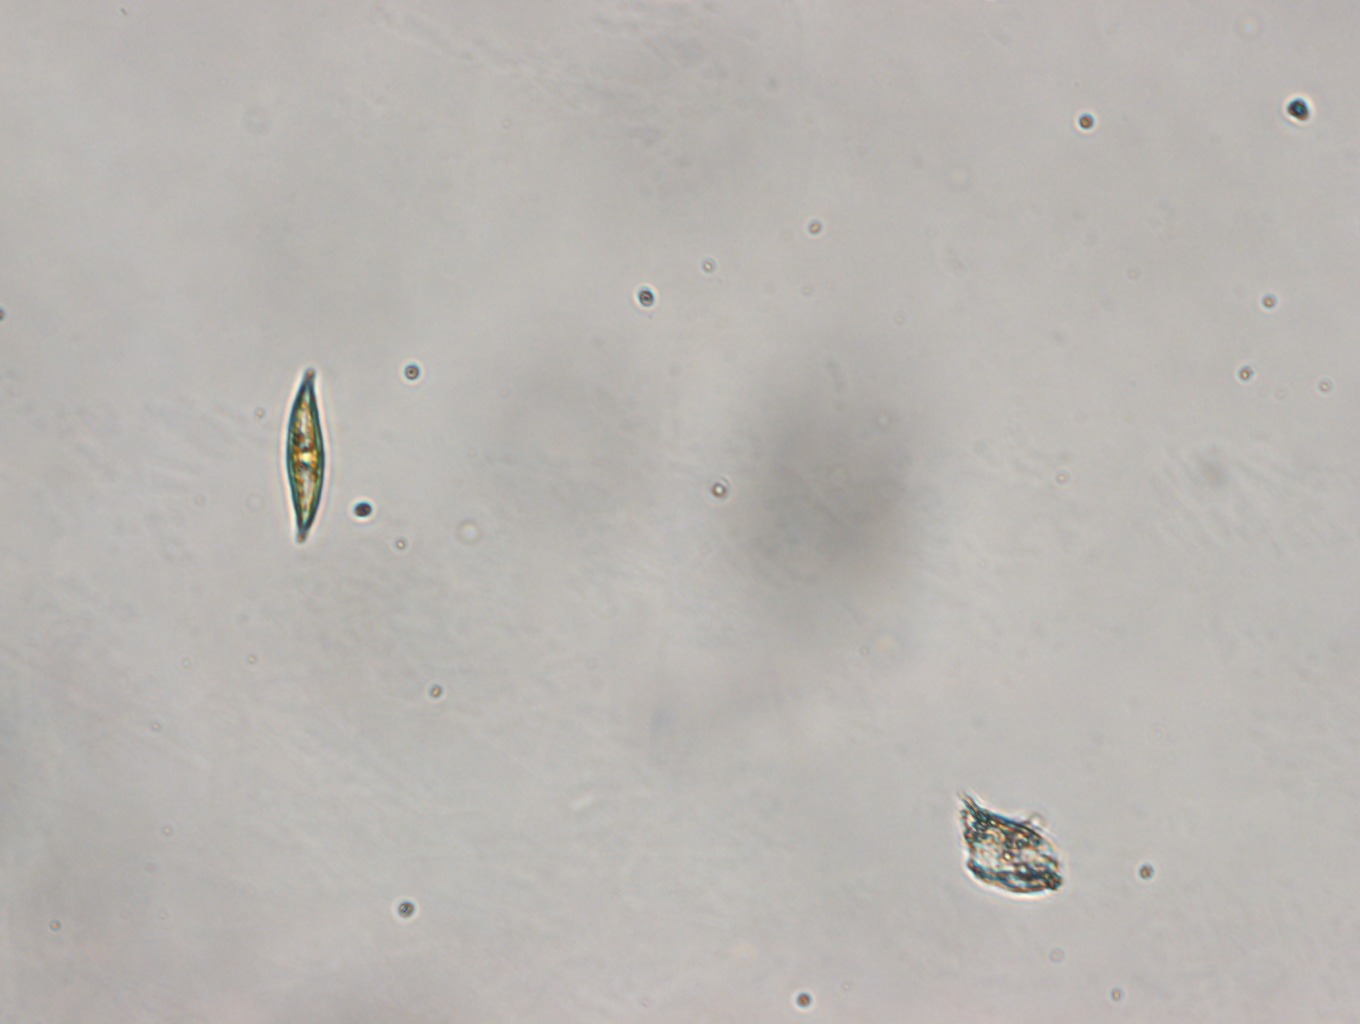pleurosigma pelagicum: (283, 364, 326, 549)
